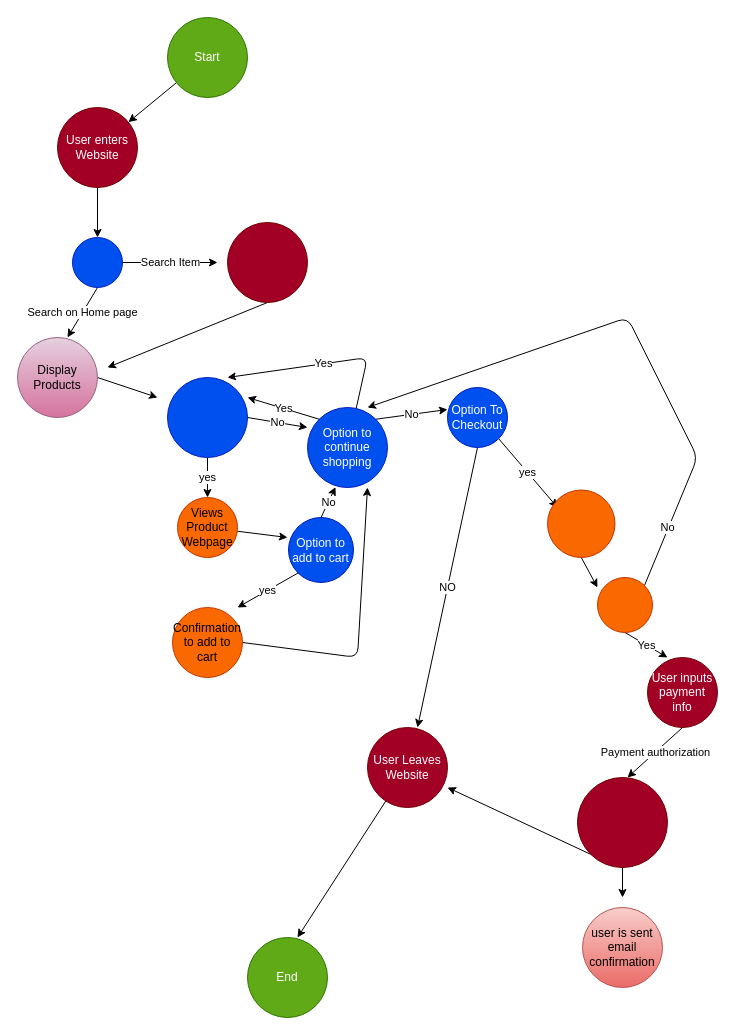
Some shapes in this 735 by 1035 pixel diagram are drawn without their labels. The shapes that lost their labels are listed below. From the top down, each one's centre as x and y in pixels, then its label:
[97,262]: Options
[267,262]: User Provides Input for Item
[207,417]: Views Specific Product
[580,523]: Show Cart
[624,604]: Show payment Screen
[622,822]: user is shown payment authorization
